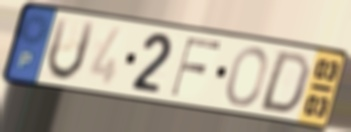2: (127, 31, 175, 96)
4: (85, 25, 125, 89)
D: (256, 49, 314, 116)
F: (168, 36, 224, 99)
O: (224, 44, 270, 109)
U: (45, 15, 98, 83)
